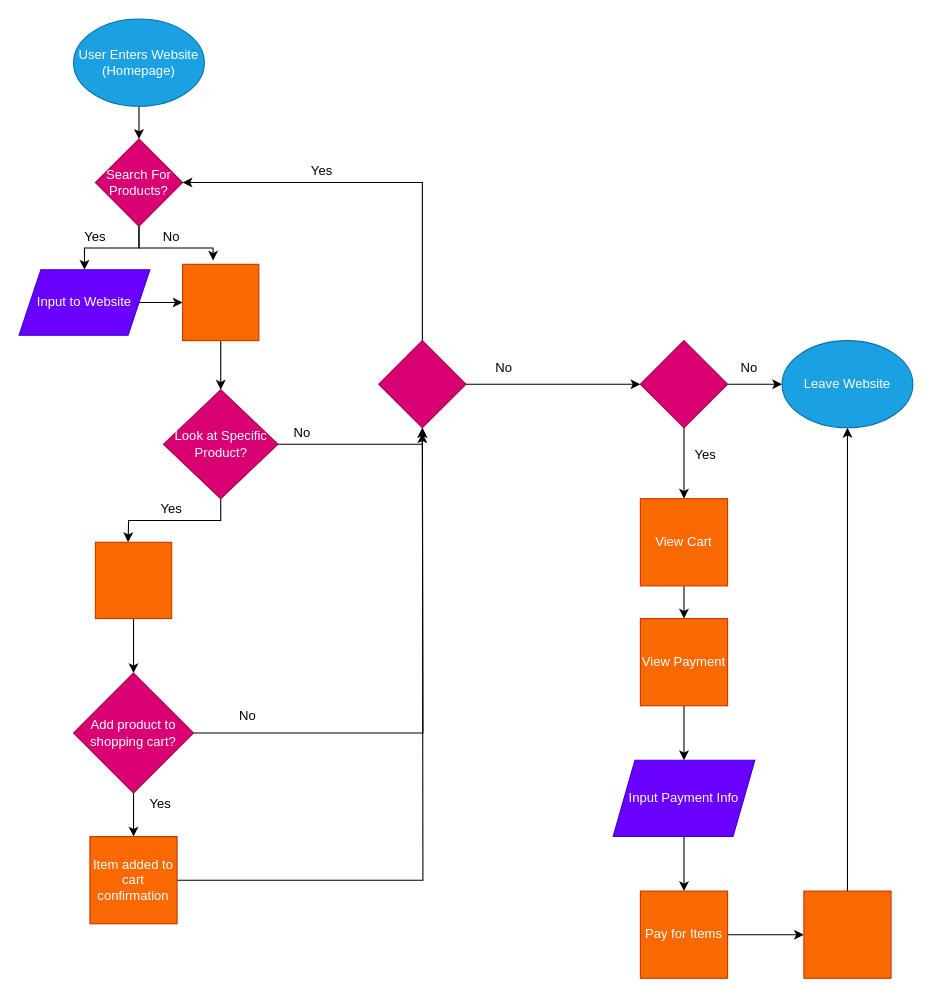
Image size: 932x997. Some labels were removed from this diagram. Each missing label, with the centre of its shape:
"Checkout?" goes at pixel 683 384.
"Continue Shopping?" goes at pixel 422 384.
"Look at Product Website" goes at pixel 133 580.
"Look At Products" goes at pixel 220 302.
"Order Confirmation Screen" goes at pixel 847 934.
